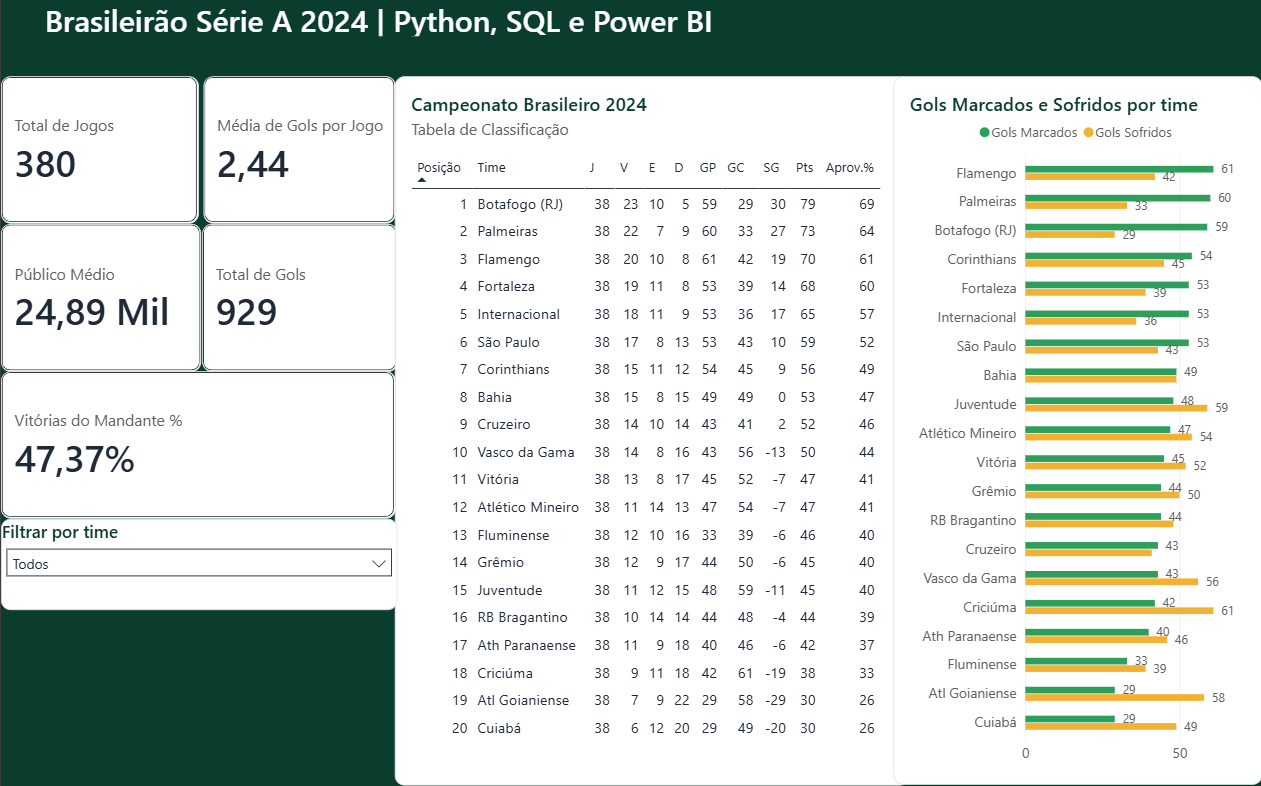

The page's visual inventory and layout, read from the dashboard file:
{"tool":"powerbi","page":{"name":"Visão Geral","canvas":[1280,800],"ordinal":0},"visuals":[{"type":"cardVisual","fields":{"Data":["Partidas.Total de Jogos"]},"box":[0.3,77.1,201,150],"z":0},{"type":"cardVisual","fields":{"Data":["Partidas.Total de Gols"]},"box":[203.7,227.1,198.3,150],"z":1000},{"type":"cardVisual","fields":{"Data":["Partidas.Publico Medio"]},"box":[0.3,227.1,203.3,150],"z":2000},{"type":"cardVisual","fields":{"Data":["Partidas.Media de Gols por Jogo"]},"box":[205.9,77.1,195.4,149.7],"z":3000},{"type":"tableEx","title":"Campeonato Brasileiro 2024","fields":{"Values":["Tabela_classificacao.Posição","Tabela_classificacao.time","Sum(Tabela_classificacao.jogos)","Sum(Tabela_classificacao.vitorias)","Sum(Tabela_classificacao.empates)","Sum(Tabela_classificacao.derrotas)","Sum(Tabela_classificacao.gols_pro)","Sum(Tabela_classificacao.gols_contra)","Sum(Tabela_classificacao.saldo)","Sum(Tabela_classificacao.pontos)","Sum(Tabela_classificacao.aproveitamento)"]},"box":[399.9,77.1,522.5,719.9],"z":4000},{"type":"clusteredBarChart","title":"Gols Marcados e Sofridos por time","fields":{"Category":["Gols_de_cada_time.time"],"Y":["Sum(Gols_de_cada_time.gols_marcados)","Sum(Gols_de_cada_time.gols_sofridos)"]},"box":[906.3,77.1,374.3,719.4],"z":5000},{"type":"slicer","title":"Filtrar por time","fields":{"Values":["Times.time"]},"box":[0,526.6,402.2,92.6],"z":6000},{"type":"cardVisual","title":"Vitórias do mandante","fields":{"Data":["Partidas.Vitorias do Mandante %"]},"box":[0,376.8,401,149.7],"z":7000},{"type":"textbox","title":"Brasileirão Série A 2024 | Python, SQL e Power BI","box":[44.4,0,709.3,36.8],"z":7001}]}

Visuals, with their boxes in screenshot pixels (x1, y1, x2, y2), scaled from the page's 1280x800 canvas onto the 1261x786 screenshot:
cardVisual - Partidas.Total de Jogos: locate(0, 76, 198, 223)
cardVisual - Partidas.Total de Gols: locate(201, 223, 396, 371)
cardVisual - Partidas.Publico Medio: locate(0, 223, 201, 371)
cardVisual - Partidas.Media de Gols por Jogo: locate(203, 76, 395, 223)
"Campeonato Brasileiro 2024" tableEx: locate(394, 76, 909, 783)
"Gols Marcados e Sofridos por time" clusteredBarChart: locate(893, 76, 1260, 783)
"Filtrar por time" slicer: locate(0, 517, 396, 608)
"Vitórias do mandante" cardVisual: locate(0, 370, 395, 517)
"Brasileirão Série A 2024 | Python, SQL e Power BI" textbox: locate(44, 0, 743, 36)
